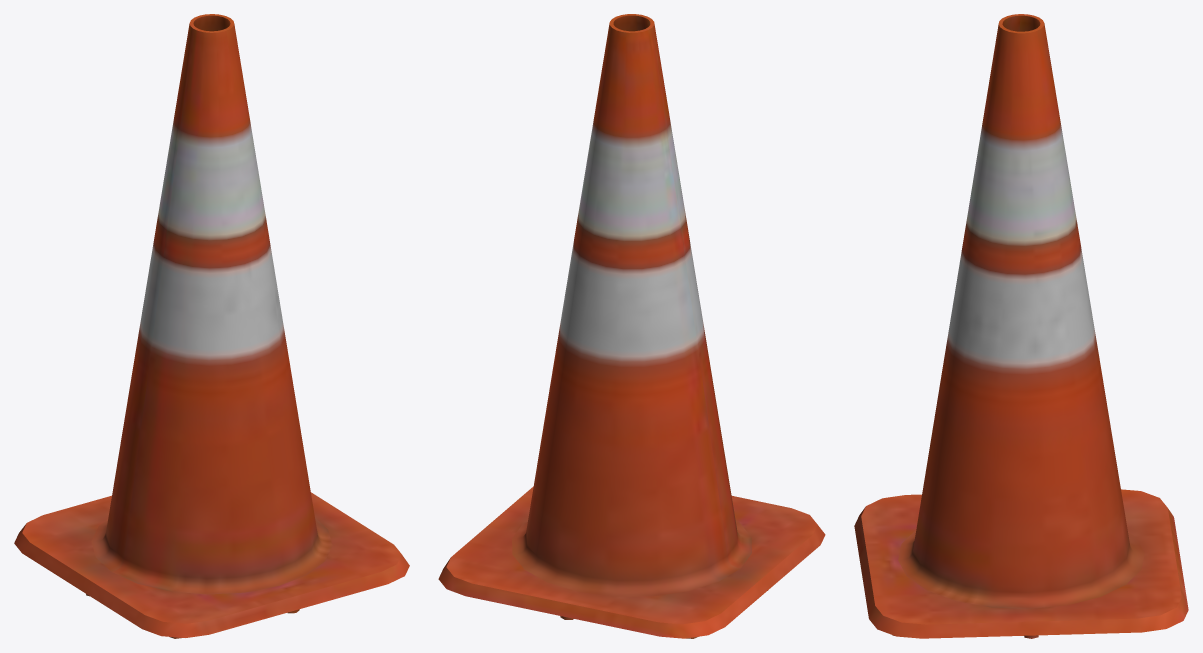
The picture shows the model from 3 angles, left to right: view 1: azimuth 30°, elevation 25°; view 2: azimuth 150°, elevation 25°; view 3: azimuth 270°, elevation 25°; orthographic projection. The views are drawn at different scales.
Visible parts, largest first — view 1: Traffic_Cone_2_2.002_w; view 2: Traffic_Cone_2_2.002_w; view 3: Traffic_Cone_2_2.002_w.
Part boxes in pixels (x1,y1,x2,y2): Traffic_Cone_2_2.002_w: (14, 14, 409, 638); Traffic_Cone_2_2.002_w: (438, 14, 825, 638); Traffic_Cone_2_2.002_w: (854, 14, 1188, 638).
Bounding box in the file's own units: 0.3911 × 0.71 × 0.3911.
1 material, 1 textured.
